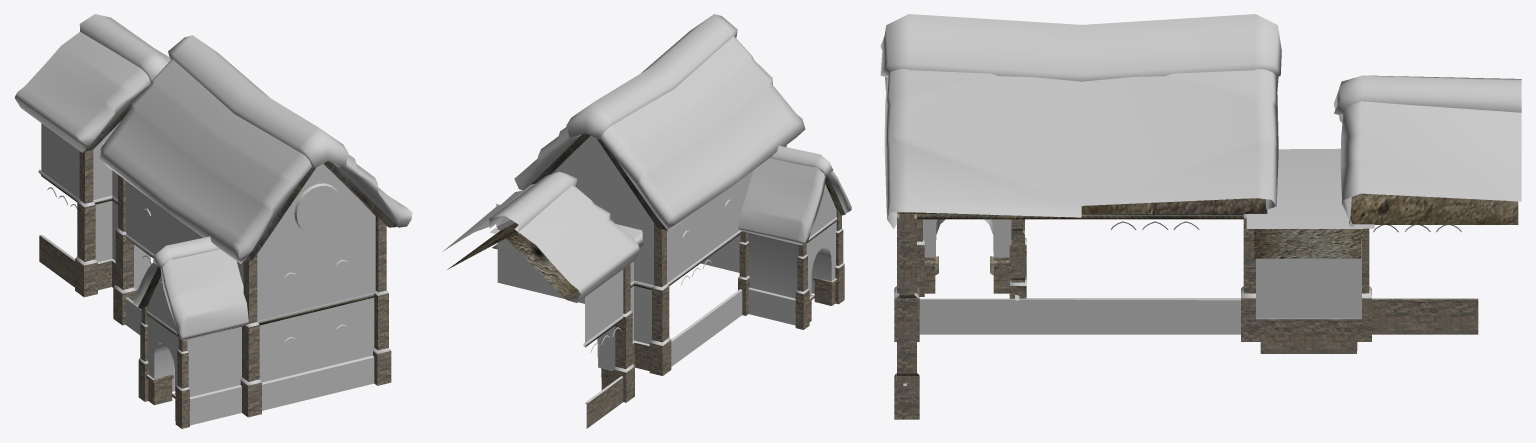
File: fangzi_01_no.fbx
The picture shows the model from 3 angles, left to right: view 1: azimuth 30°, elevation 25°; view 2: azimuth 150°, elevation 25°; view 3: azimuth 270°, elevation 25°; orthographic projection. The views are drawn at different scales.
Visible parts, largest first — view 1: xue, qiang, zhuzi, zhuan_ia, fangyan, yuanchuanghu, qiang03; view 2: xue, qiang, zhuzi, fangyan, zhuan_ia, qiang03; view 3: xue, qiang, fangyan, zhuzi, zhuan_ia, qiang03.
Boxes of the visible parts, x1,y1,x2,y2 form: xue: [14, 14, 412, 399]; qiang: [41, 121, 375, 425]; zhuzi: [75, 149, 391, 428]; zhuan_ia: [39, 235, 175, 420]; fangyan: [83, 104, 397, 336]; yuanchuanghu: [294, 183, 341, 233]; qiang03: [40, 174, 374, 337]; xue: [442, 14, 851, 402]; qiang: [497, 136, 836, 371]; zhuzi: [613, 145, 844, 402]; fangyan: [447, 133, 845, 302]; zhuan_ia: [585, 277, 837, 428]; qiang03: [585, 219, 837, 347]; xue: [880, 14, 1521, 384]; qiang: [903, 216, 1361, 385]; fangyan: [897, 193, 1518, 258]; zhuzi: [894, 214, 1371, 419]; zhuan_ia: [924, 256, 1478, 353]; qiang03: [917, 214, 1361, 237].
Size of the model in its own units: 14.13 by 15.67 by 24.65.
